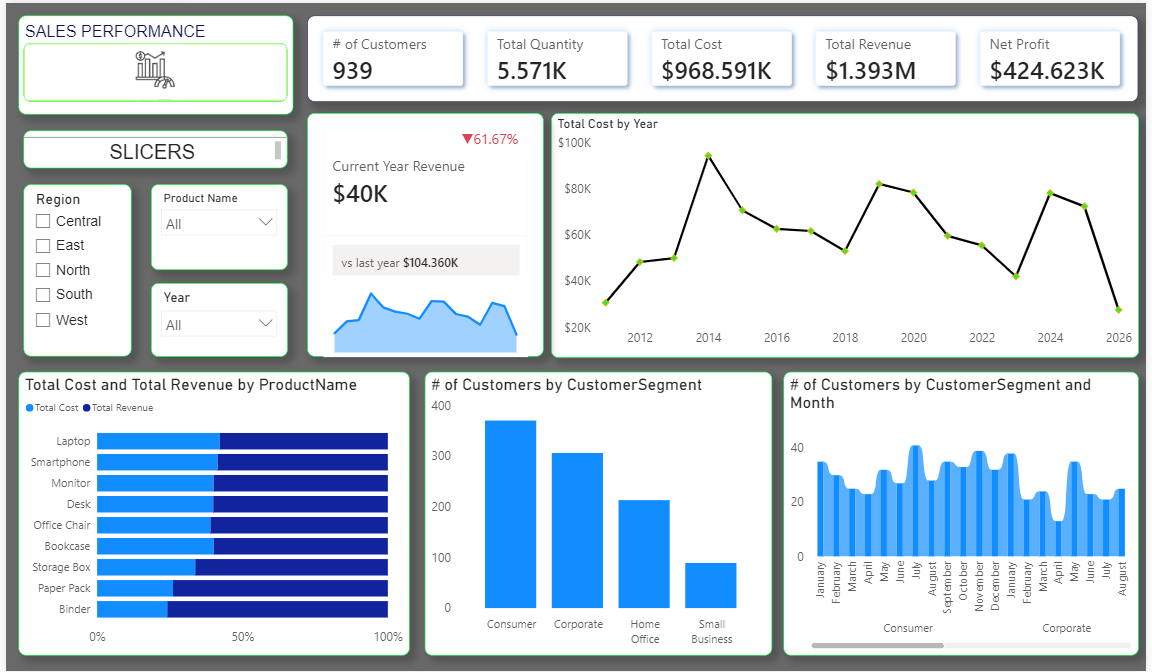

Layout of this report page (visuals, bound fields, positions):
{"tool":"powerbi","page":{"name":"Page 1","canvas":[1520,890],"ordinal":0},"visuals":[{"type":"lineChart","fields":{"Category":["Sales Performance.OrderDate.Variation.Date Hierarchy.Year"],"Y":["Sales Performance.Total Cost"]},"box":[726,146,784,326],"z":0},{"type":"group","id":"g1","title":"Group 3","box":[24,242.5,352,229.5],"z":0,"group":"g4"},{"type":"cardVisual","fields":{"Data":["Sales Performance.# of Customers","Sales Performance.Total Quantity","Sales Performance.Total Cost","Sales Performance.Total Revenue","Sales Performance.Net Profi"]},"box":[420,16,1090,116],"z":1000},{"type":"textbox","box":[24,170,352,50.3],"z":1000,"group":"g4"},{"type":"group","id":"g2","title":"Group 2","box":[420,146,296,326],"z":2000},{"type":"cardVisual","fields":{"Data":["Sales Performance.Current Year"]},"box":[420,146,296,326],"z":2000,"group":"g3"},{"type":"hundredPercentStackedBarChart","fields":{"Category":["Sales Performance.ProductName"],"Y":["Sales Performance.Total Cost","Sales Performance.Total Revenue"]},"box":[16.7,491.7,521.7,378.3],"z":3000},{"type":"textbox","box":[16,16,366,132],"z":4000},{"type":"group","id":"g3","title":"Group 1","box":[420,146,296,326],"z":4000,"group":"g2"},{"type":"slicer","fields":{"Values":["Sales Performance.Region"]},"box":[24,242.5,144,229.5],"z":4000,"group":"g1"},{"type":"shape","box":[583.6,154.6,131.7,51.6],"z":5000,"group":"g3"},{"type":"group","id":"g4","title":"Group 4","box":[24,170,352,302],"z":5000},{"type":"lineChart","fields":{"Category":["Sales Performance.OrderDate.Variation.Date Hierarchy.Year","Sales Performance.OrderDate.Variation.Date Hierarchy.Quarter","Sales Performance.OrderDate.Variation.Date Hierarchy.Month","Sales Performance.OrderDate.Variation.Date Hierarchy.Day"],"Y":["Sales Performance.Total Revenue"]},"box":[440,362.7,256.1,109.3],"z":5000,"group":"g2"},{"type":"image","box":[24,54,352,78],"z":6000},{"type":"clusteredColumnChart","fields":{"Category":["Sales Performance.CustomerSegment"],"Y":["Sales Performance.# of Customers"]},"box":[558.3,491.7,463.3,378.3],"z":6001},{"type":"ribbonChart","fields":{"Category":["Sales Performance.CustomerSegment","Sales Performance.OrderDate.Variation.Date Hierarchy.Month"],"Y":["Sales Performance.# of Customers"]},"box":[1036.7,491.7,473.3,378.3],"z":6002},{"type":"slicer","fields":{"Values":["Sales Performance.ProductName"]},"box":[194,242.5,182,114.8],"z":7000,"group":"g1"},{"type":"slicer","fields":{"Values":["Sales Performance.OrderDate.Variation.Date Hierarchy.Year"]},"box":[194,373.4,182,98.7],"z":8000,"group":"g1"}]}

Visuals, with their boxes in screenshot pixels (x1, y1, x2, y2), scaled from the page's 1520x890 canvas onto the 1152x672 screenshot:
lineChart - Sales Performance.OrderDate.Variation.Date Hierarchy.Year x Sales Performance.Total Cost: box(550, 110, 1144, 356)
"Group 3" group: box(18, 183, 285, 356)
cardVisual - Sales Performance.# of Customers x Sales Performance.Total Quantity: box(318, 12, 1144, 100)
textbox: box(18, 128, 285, 166)
"Group 2" group: box(318, 110, 543, 356)
cardVisual - Sales Performance.Current Year: box(318, 110, 543, 356)
hundredPercentStackedBarChart - Sales Performance.ProductName x Sales Performance.Total Cost: box(13, 371, 408, 657)
textbox: box(12, 12, 290, 112)
"Group 1" group: box(318, 110, 543, 356)
slicer - Sales Performance.Region: box(18, 183, 127, 356)
shape: box(442, 117, 542, 156)
"Group 4" group: box(18, 128, 285, 356)
lineChart - Sales Performance.OrderDate.Variation.Date Hierarchy.Year x Sales Performance.OrderDate.Variation.Date Hierarchy.Quarter: box(333, 274, 528, 356)
image: box(18, 41, 285, 100)
clusteredColumnChart - Sales Performance.CustomerSegment x Sales Performance.# of Customers: box(423, 371, 774, 657)
ribbonChart - Sales Performance.CustomerSegment x Sales Performance.OrderDate.Variation.Date Hierarchy.Month: box(786, 371, 1144, 657)
slicer - Sales Performance.ProductName: box(147, 183, 285, 270)
slicer - Sales Performance.OrderDate.Variation.Date Hierarchy.Year: box(147, 282, 285, 356)
